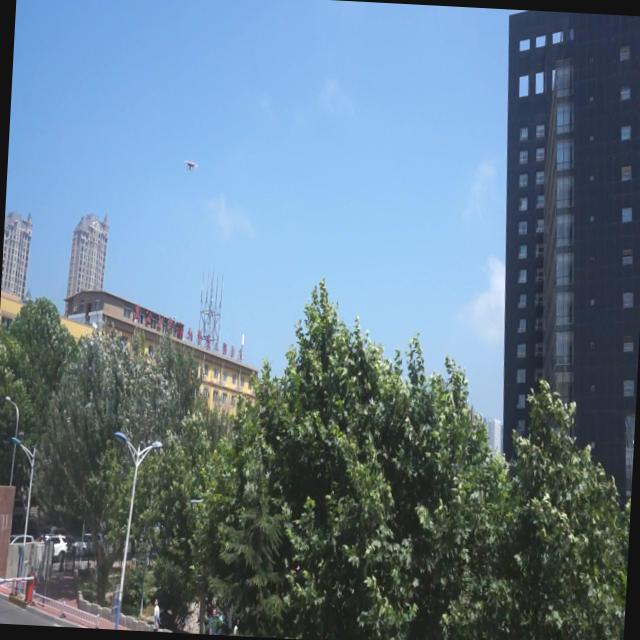drone: (182, 156, 200, 178)
